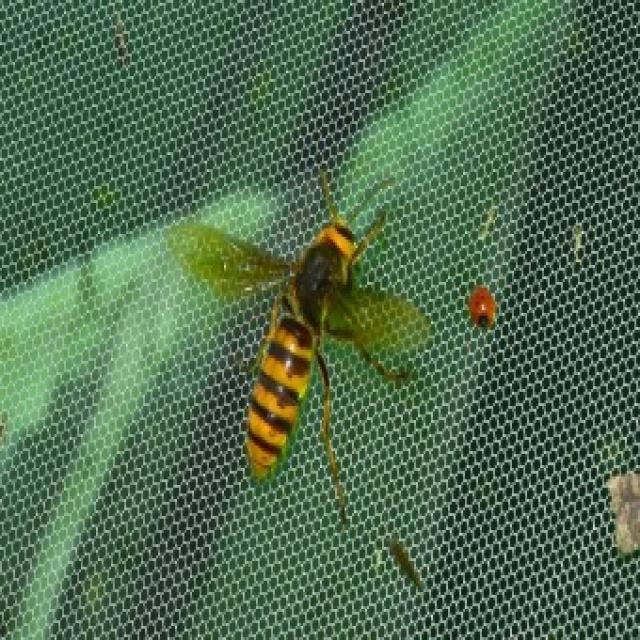Wasp: (164, 169, 430, 528)
